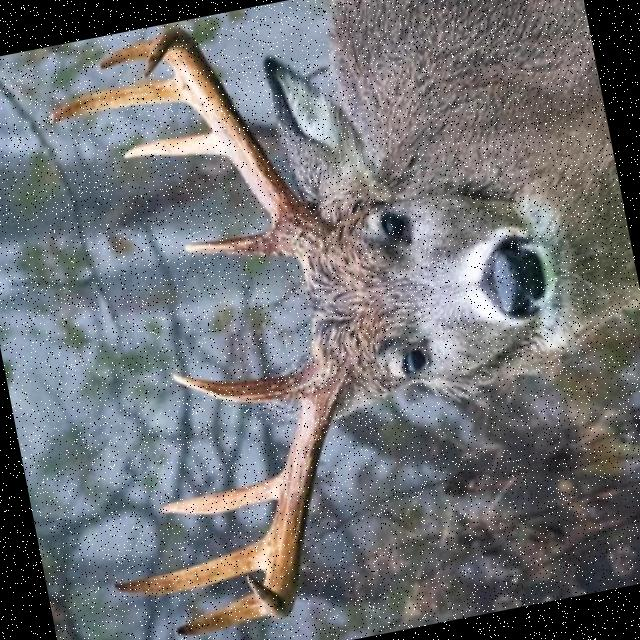E1: (99, 38, 156, 70)
L-F: (247, 363, 347, 617)
L-G1: (170, 373, 297, 403)
L-G2: (158, 475, 280, 516)
L-G3: (112, 539, 263, 597)
L-G4: (175, 593, 264, 637)
R-F: (142, 27, 325, 254)
R-G1: (183, 230, 281, 258)
R-G2: (123, 132, 227, 159)
R-G3: (47, 79, 187, 125)
